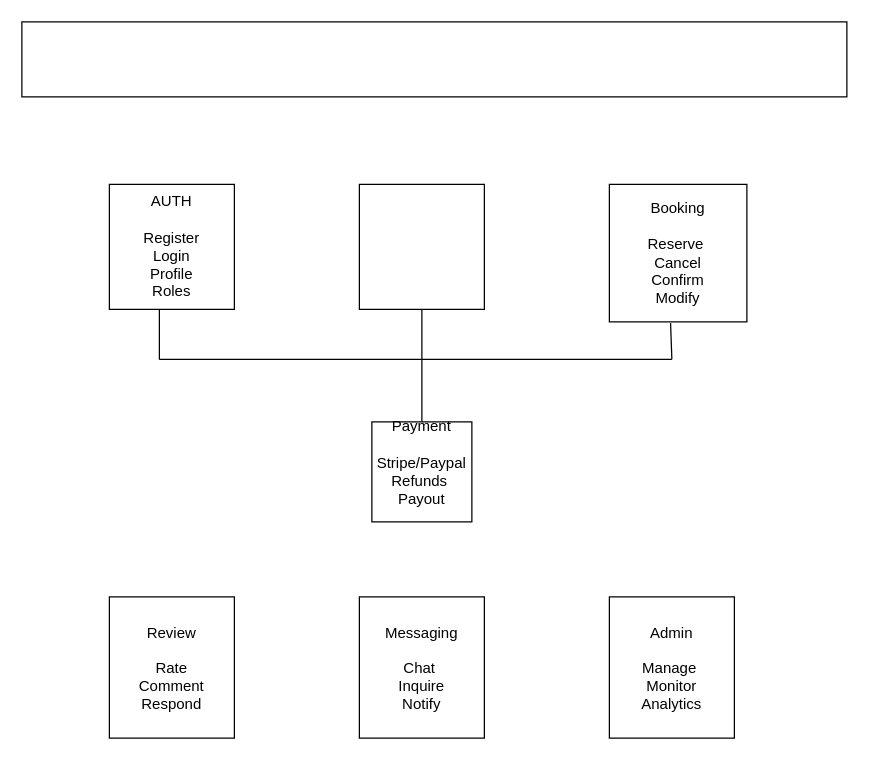
This 869x760 diagram has some shape labels left out. Here are the shapes that lost their labels. From the top down, the box of each, then its label:
(21, 21, 847, 97): AIRBNB CLONE - BACKEND FEATURES & FUNCTIONALITIES
(358, 183, 484, 309): Property Create Edit Search Photos
